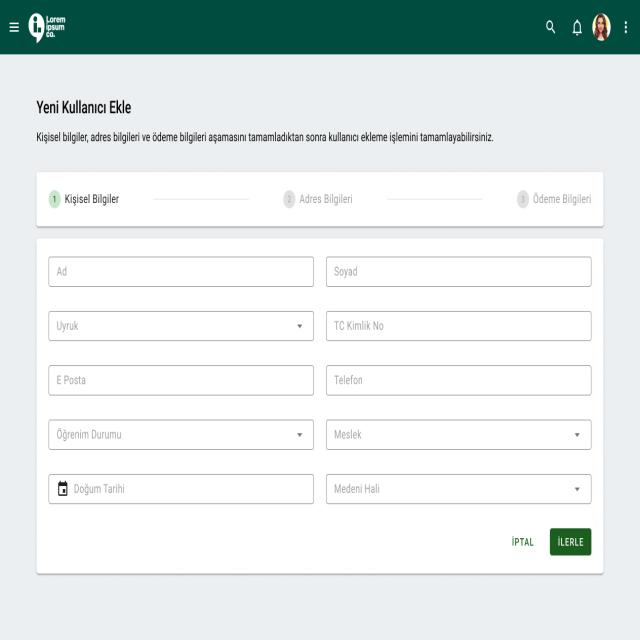QLabel: (36, 130, 494, 146), (34, 98, 133, 116), (508, 534, 536, 548), (556, 536, 585, 548)
VAppBar: (0, 0, 640, 54)
VAvatar: (592, 13, 612, 41)
VBtn: (549, 526, 592, 558), (502, 527, 544, 555)
VCard: (36, 237, 604, 576)
VCheckbox: (325, 418, 592, 451)
VCombobox: (326, 472, 592, 507), (47, 418, 315, 452), (48, 310, 314, 344)
VIcon: (572, 19, 582, 35), (546, 20, 556, 34), (9, 22, 20, 34), (624, 21, 628, 34)
VImg: (25, 12, 67, 43)
VInlineDatepicker: (47, 472, 315, 507)
VStepper: (36, 170, 605, 229)
VTextField: (47, 363, 315, 398), (325, 363, 593, 398), (47, 255, 315, 289), (325, 310, 592, 344), (325, 255, 592, 288)
